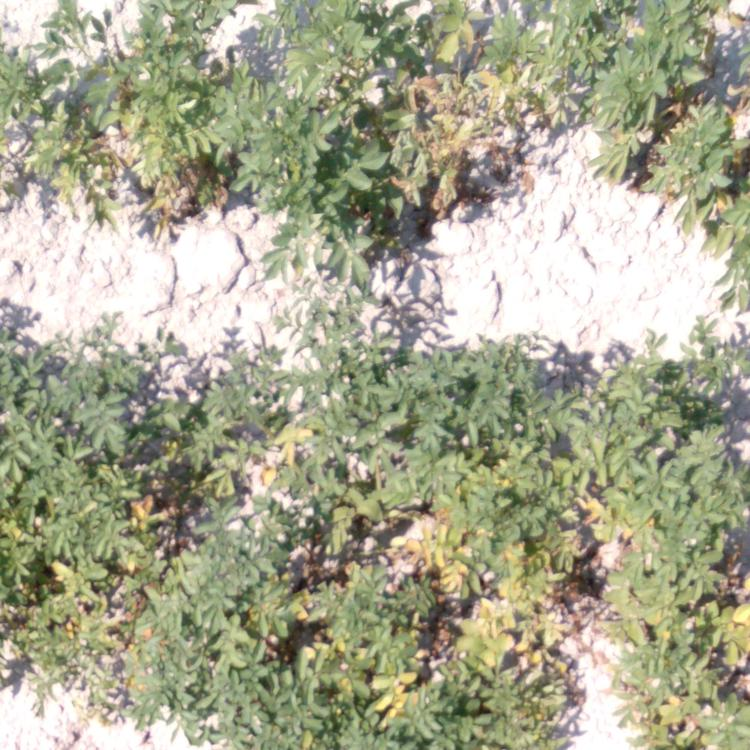healthy: (321, 313, 534, 437), (243, 4, 378, 199), (533, 335, 725, 457), (4, 314, 159, 462), (263, 200, 370, 313), (162, 311, 281, 406)
stressed: (318, 574, 577, 750), (4, 463, 162, 710), (381, 1, 529, 232), (595, 1, 750, 212), (163, 540, 309, 749), (316, 440, 528, 572), (120, 1, 241, 229), (604, 573, 750, 747), (532, 457, 745, 567), (1, 1, 112, 197), (162, 407, 313, 538), (529, 1, 593, 117), (681, 214, 750, 317)
